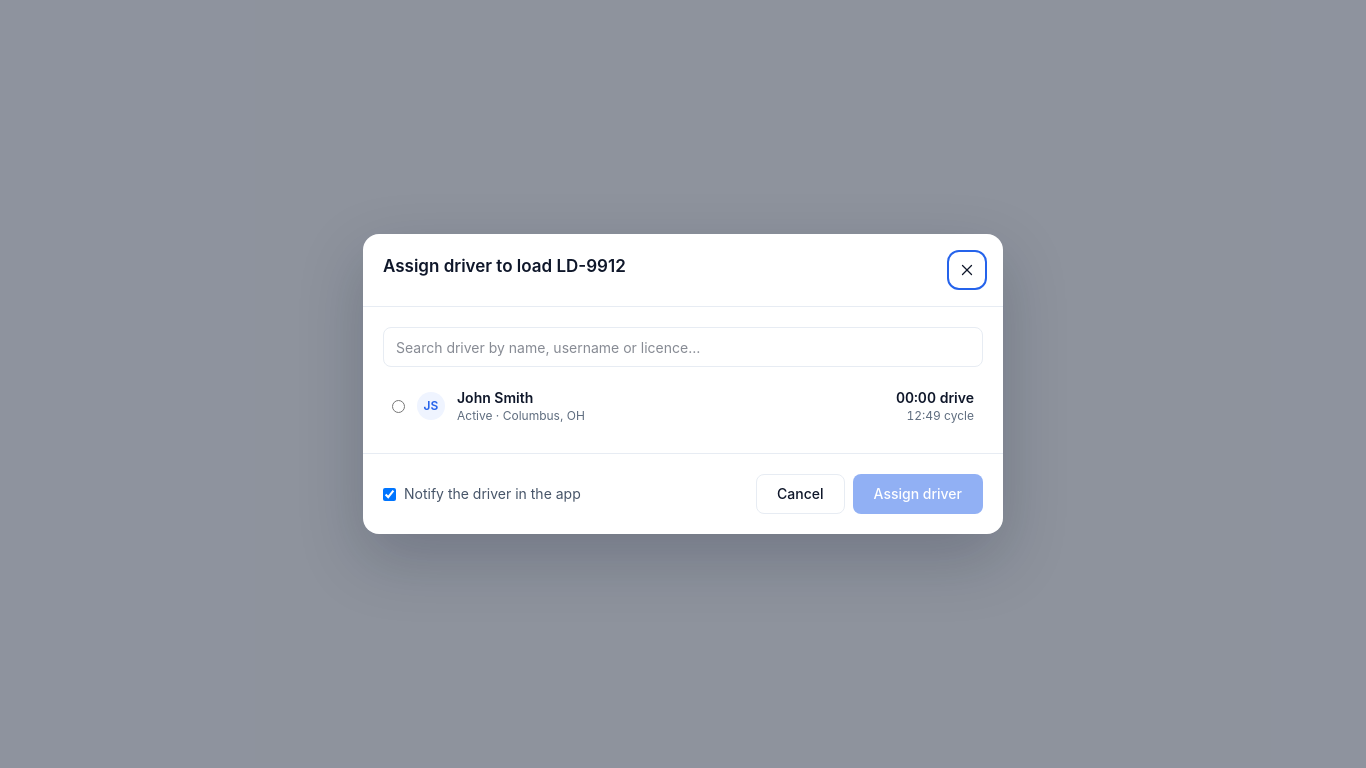
AssignLoadModal — 11.4 load variant › BE-001 — a driver / unit refusal lands where it belongs, not in a toast › 422 DRIVER_NOT_FOUND (deleted driver) is shown under the driver list, which is marked invalid
This screenshot has width=1366, height=768.
Click the text "John Smith" at (495, 398), box [457,389,533,406]
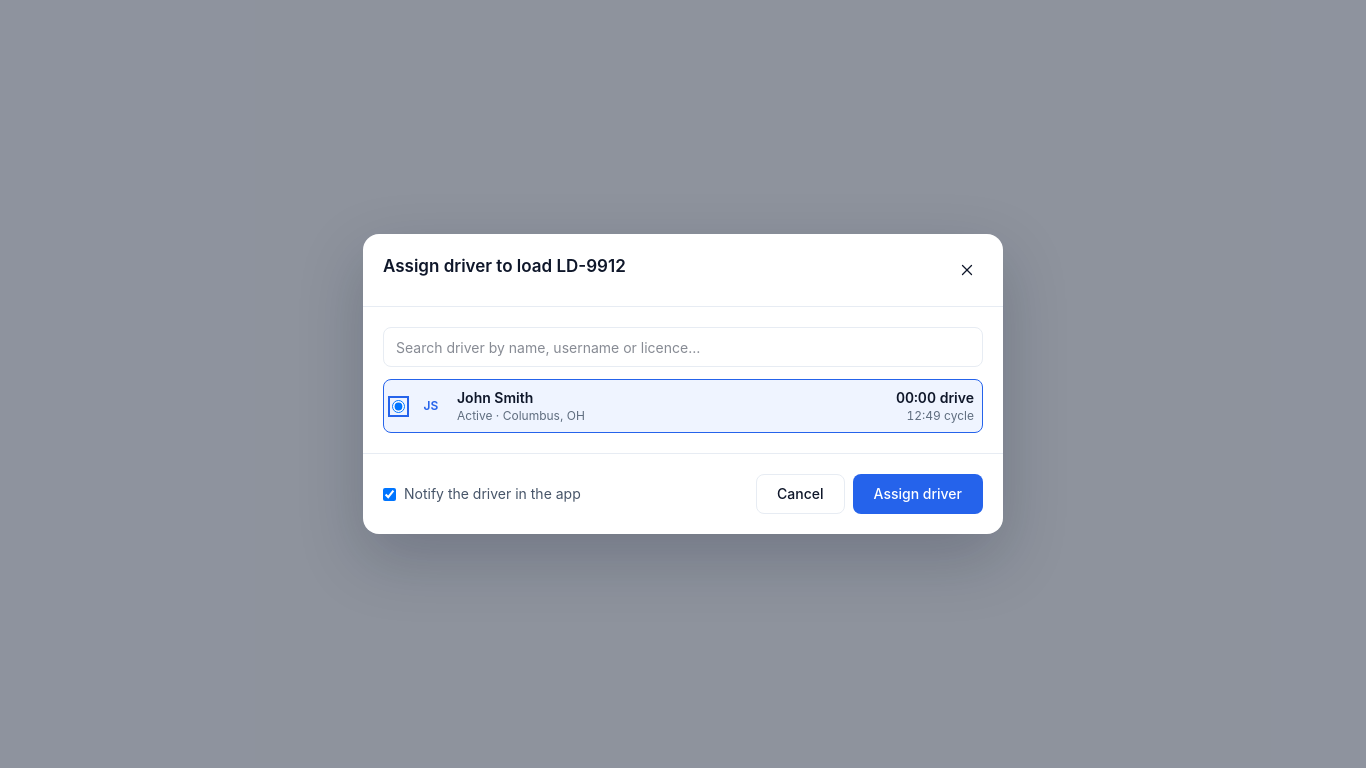
Click the button "Assign driver" at (918, 494), box [853,474,983,514]
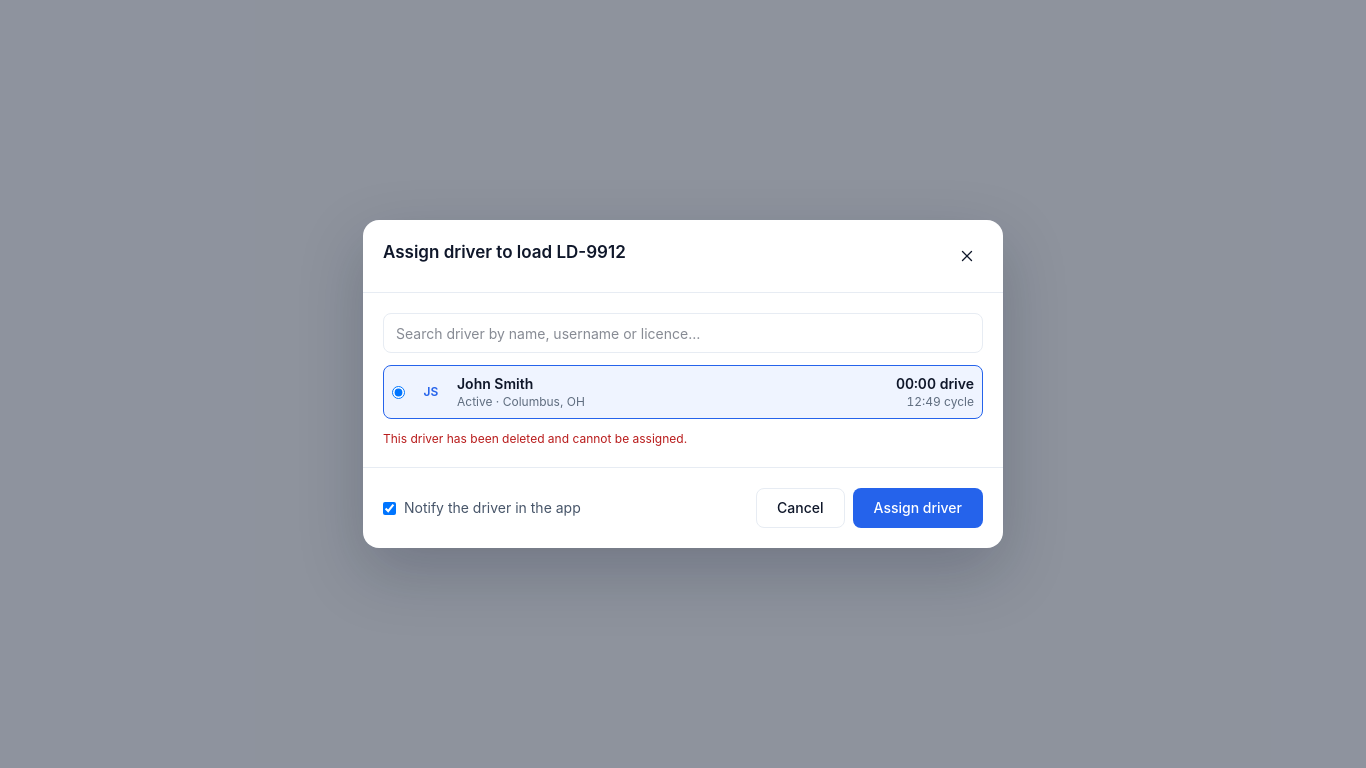
Result: the message reads "This driver has been deleted and cannot be assigned." at [383,431,687,446]
